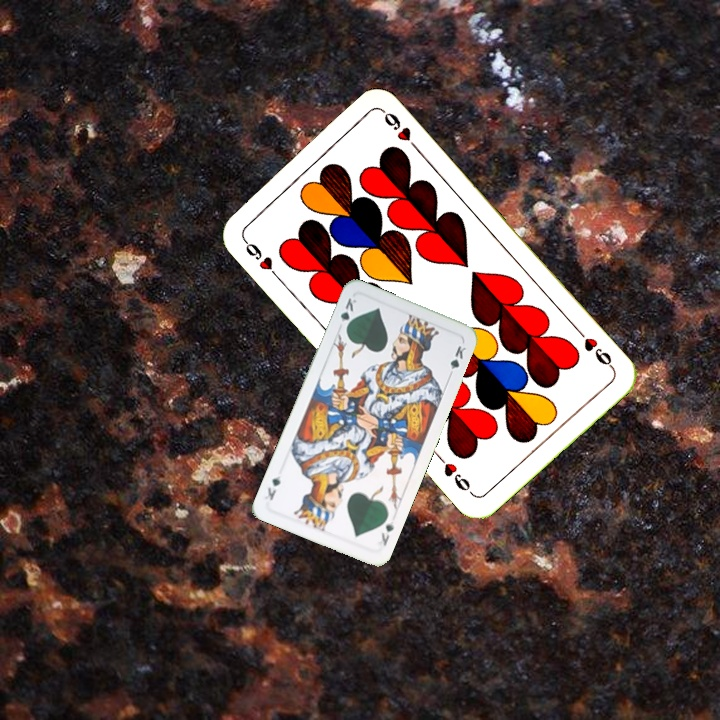GK: (336, 294, 359, 333), (374, 516, 397, 548)
H9: (572, 324, 617, 372), (238, 234, 282, 282)
